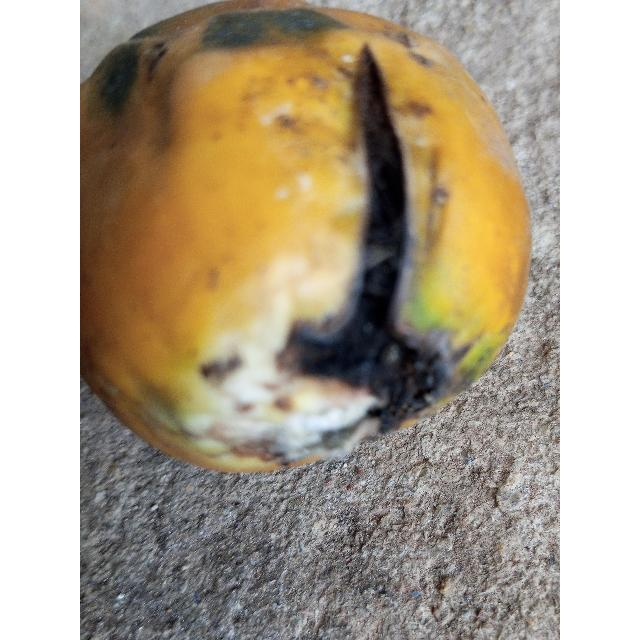damaged: (80, 4, 533, 477)
